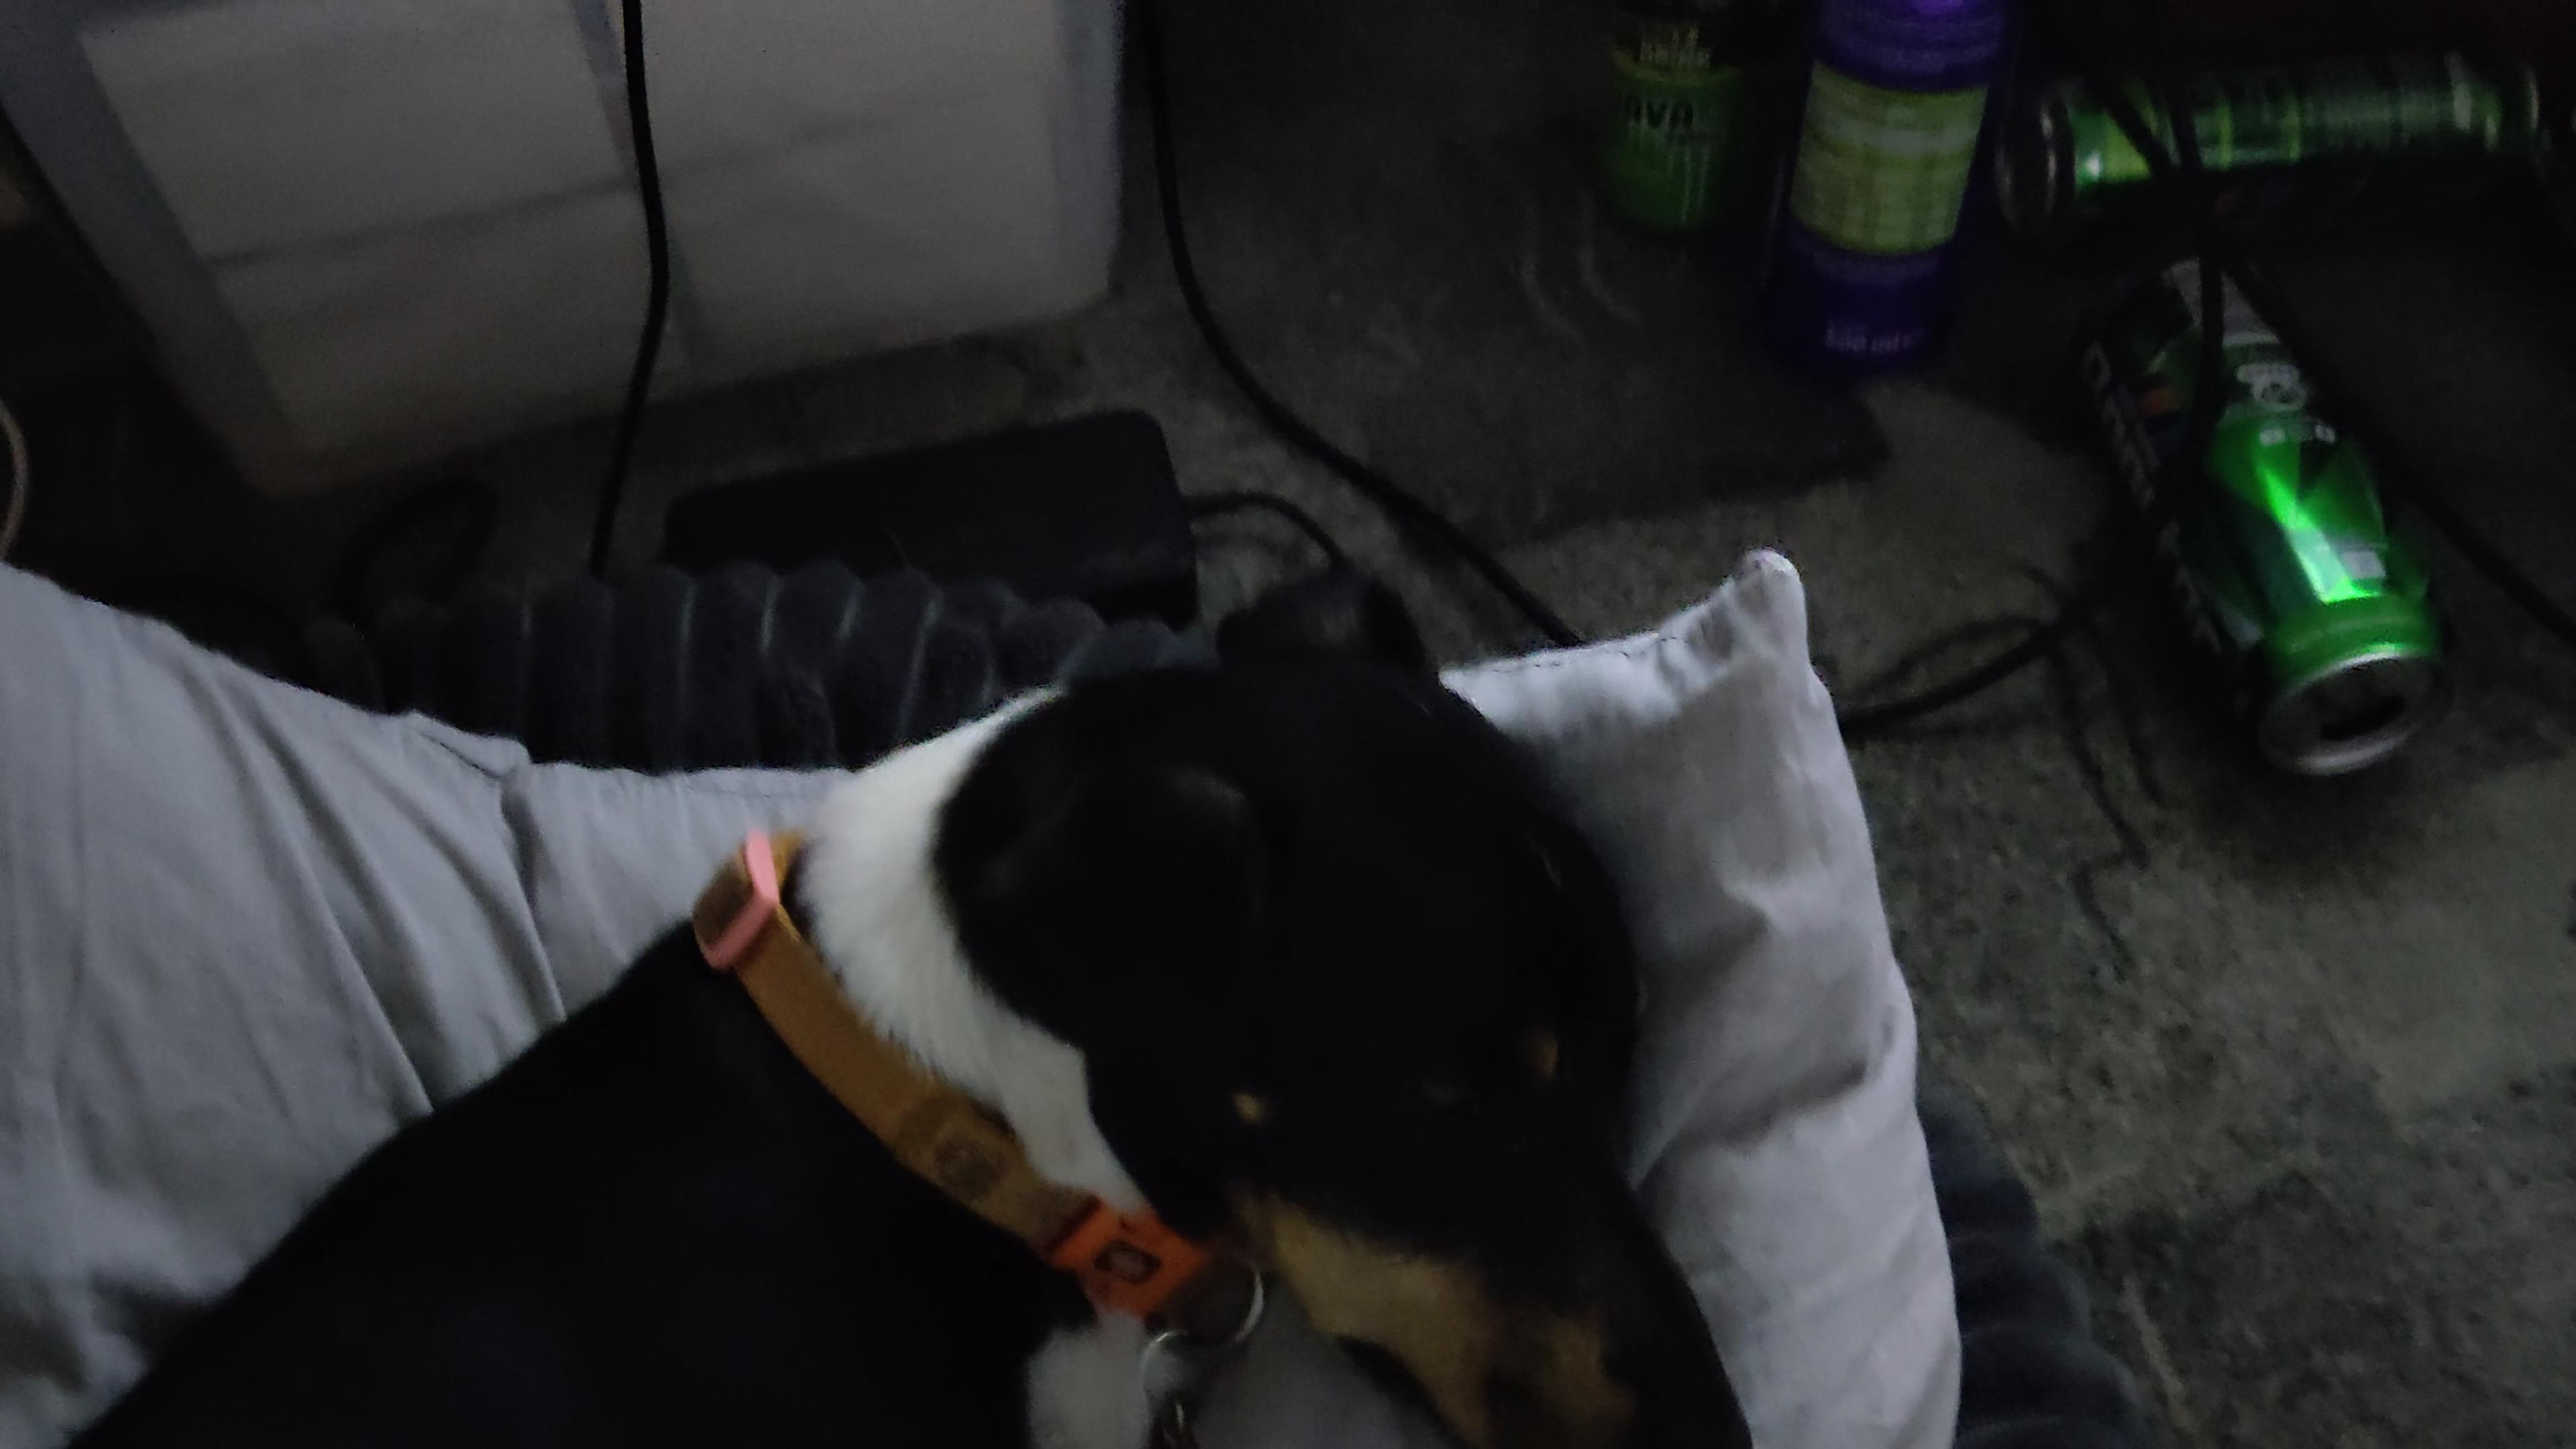Dog: (50, 548, 1787, 1449)
